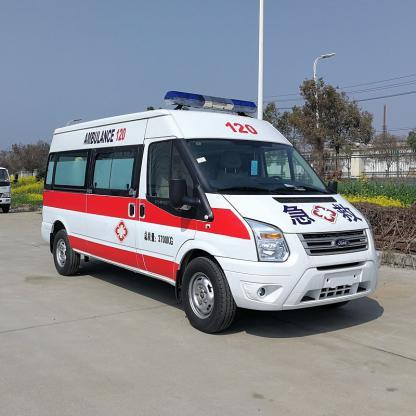Ambulance - v1 Ambulance last generate: (45, 91, 387, 322)
